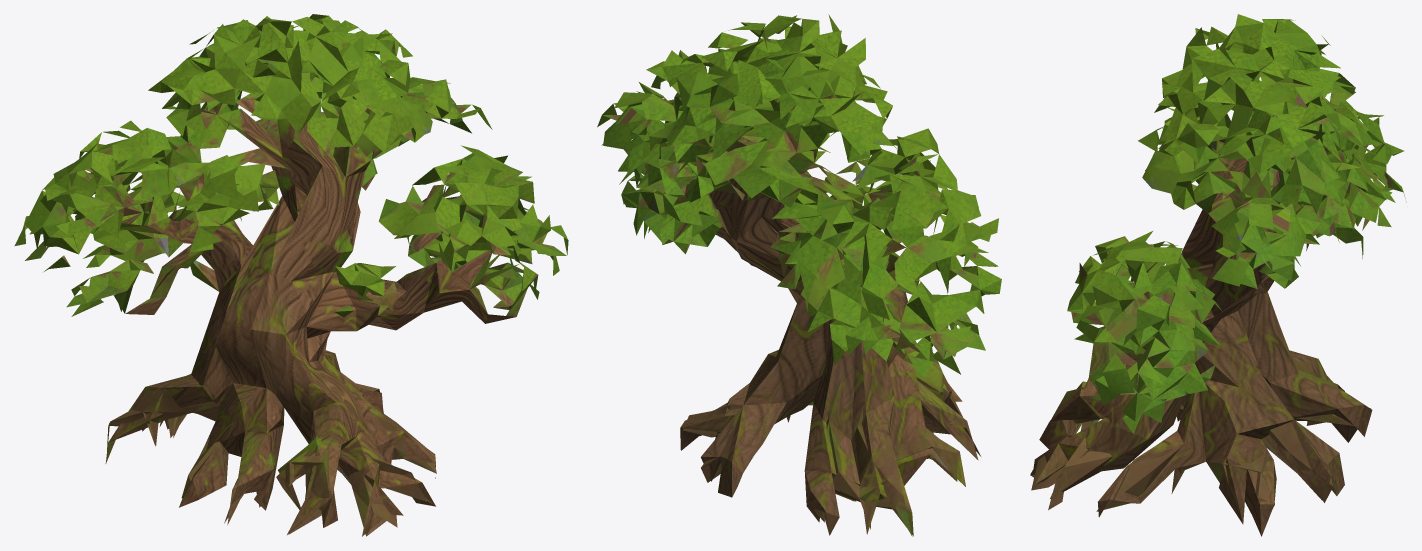
Rendered from tree_gnarled.glb.
3 views of the same model, side by side, from view 1: azimuth 30°, elevation 25°; view 2: azimuth 150°, elevation 25°; view 3: azimuth 270°, elevation 25° (orthographic). The views are drawn at different scales.
Bounding box in the file's own units: 1.86 × 1.76 × 1.3.
1 material, 1 textured.
